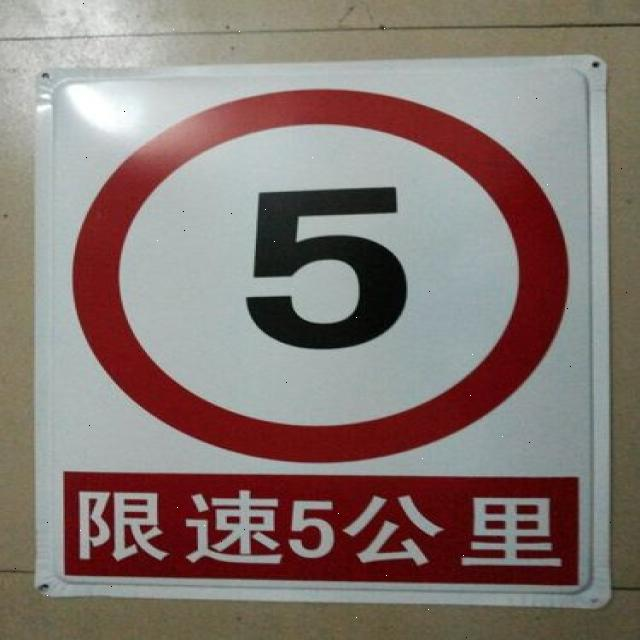speed limit 10: (66, 87, 566, 464)
